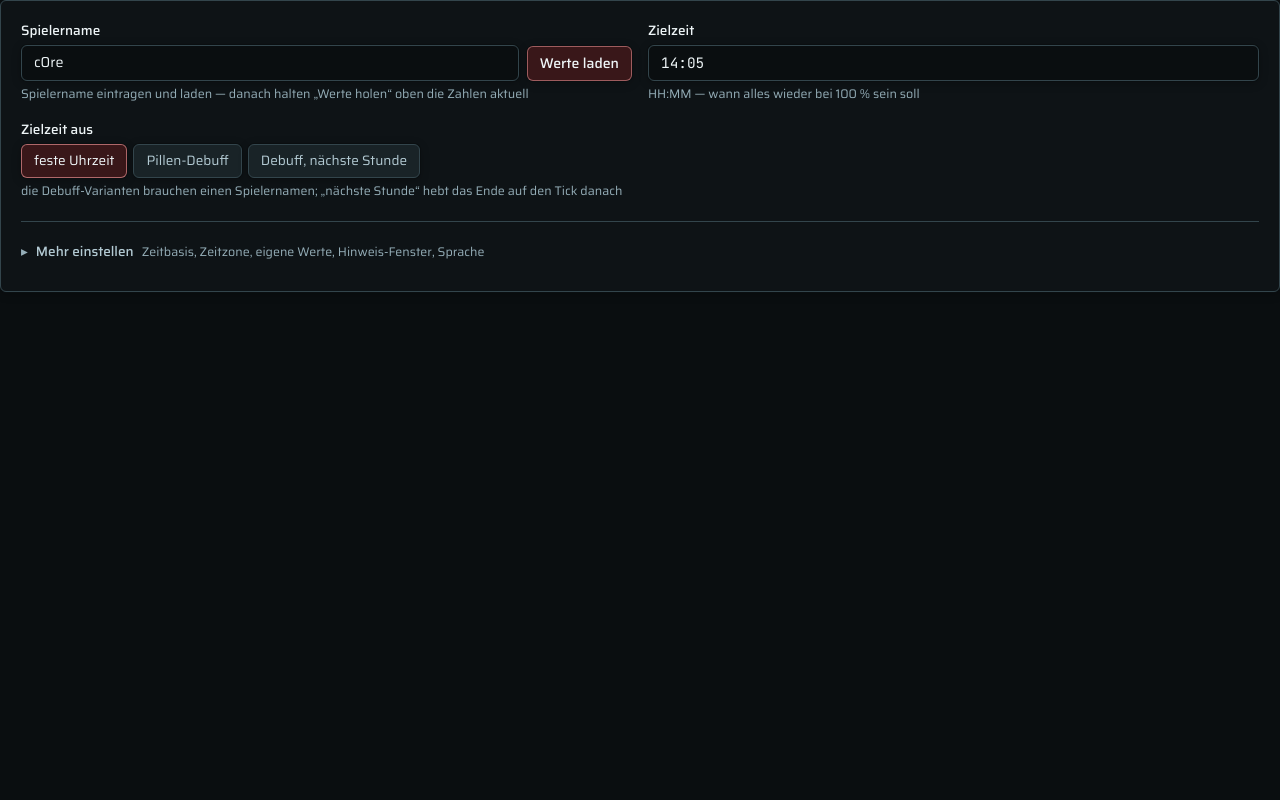
Einstellungen › zeigt im API-Modus die Werte aus dem Abruf und keine eigenen Zahlen
This screenshot has width=1280, height=800.
Click the heading: (253, 252) [21, 241, 484, 262]
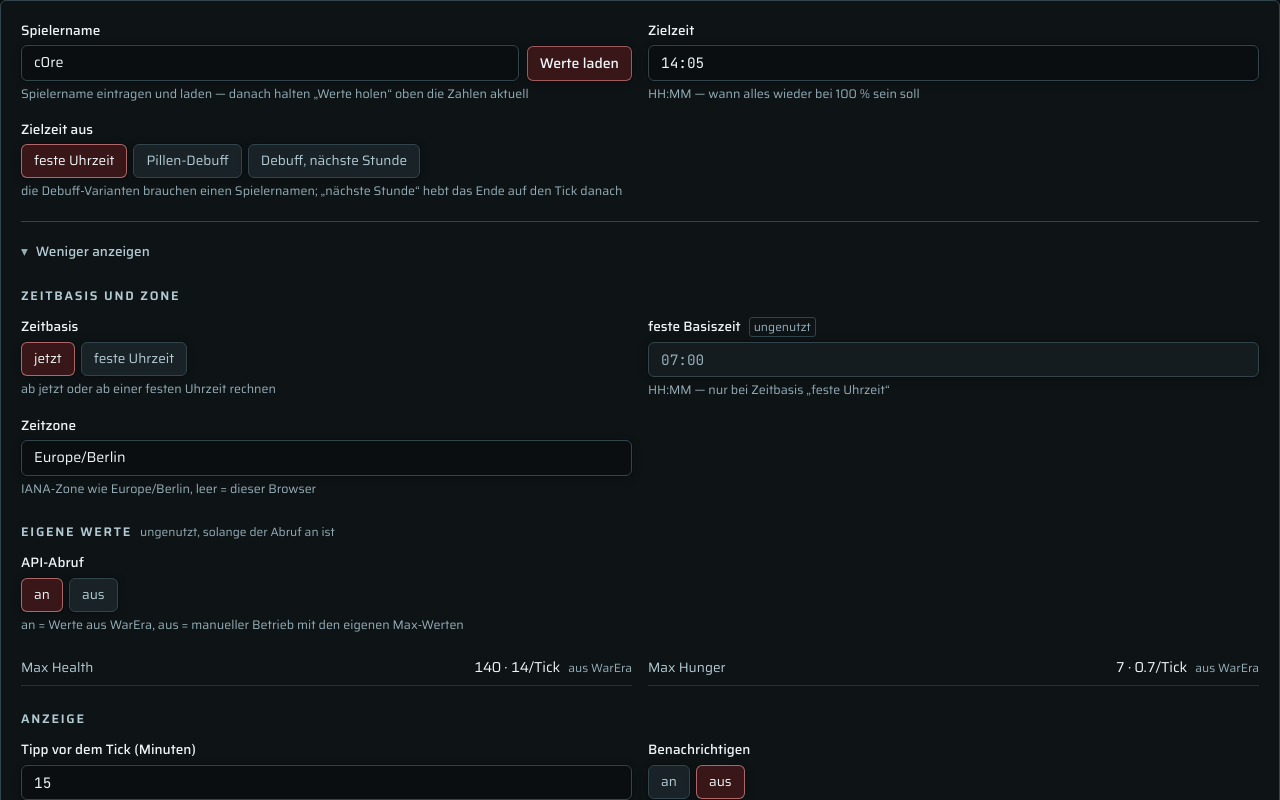
Now the text "140" is shown, box [474, 656, 560, 678]
Now the text "14/Tick" is shown, box [474, 656, 560, 678]
